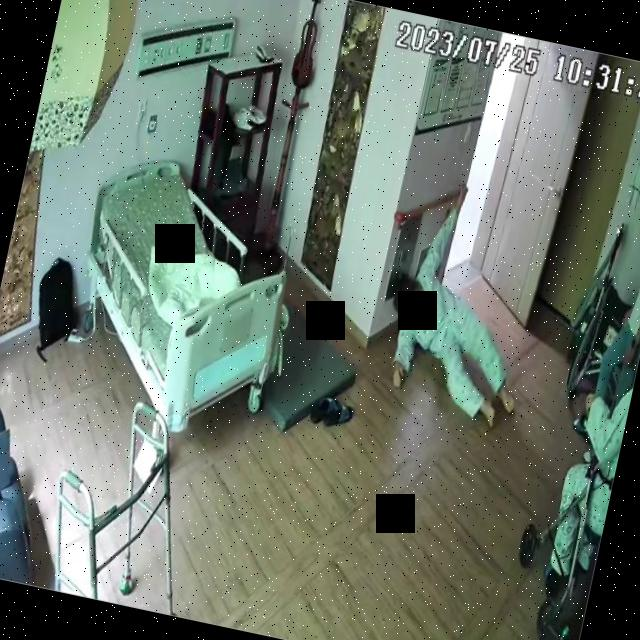bed: (57, 150, 309, 450)
fall: (370, 169, 560, 428)
patient: (370, 172, 560, 430), (550, 385, 632, 572)
sit: (550, 389, 630, 574)
walker: (35, 386, 216, 616), (501, 434, 619, 640)
